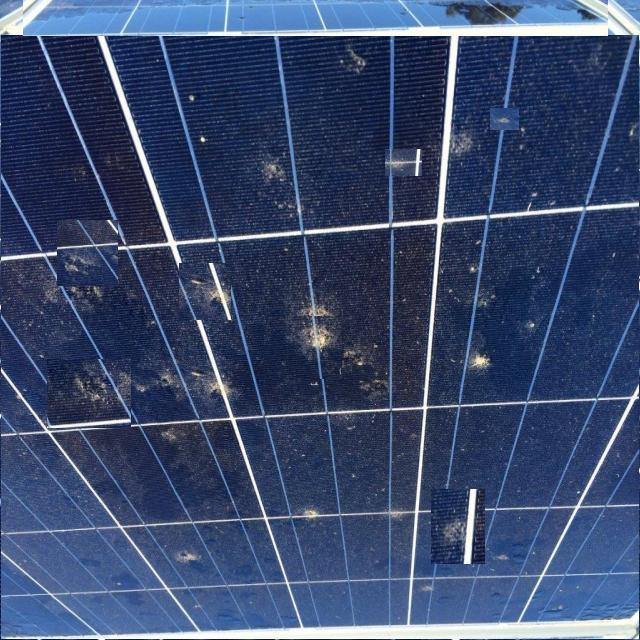Bird-drop: (47, 359, 131, 428), (264, 316, 342, 379), (432, 489, 486, 564), (57, 220, 118, 286), (168, 95, 230, 145), (180, 263, 232, 320), (265, 463, 295, 526), (302, 131, 334, 189), (456, 336, 498, 380), (411, 78, 451, 106), (385, 149, 422, 176), (490, 108, 519, 130)
